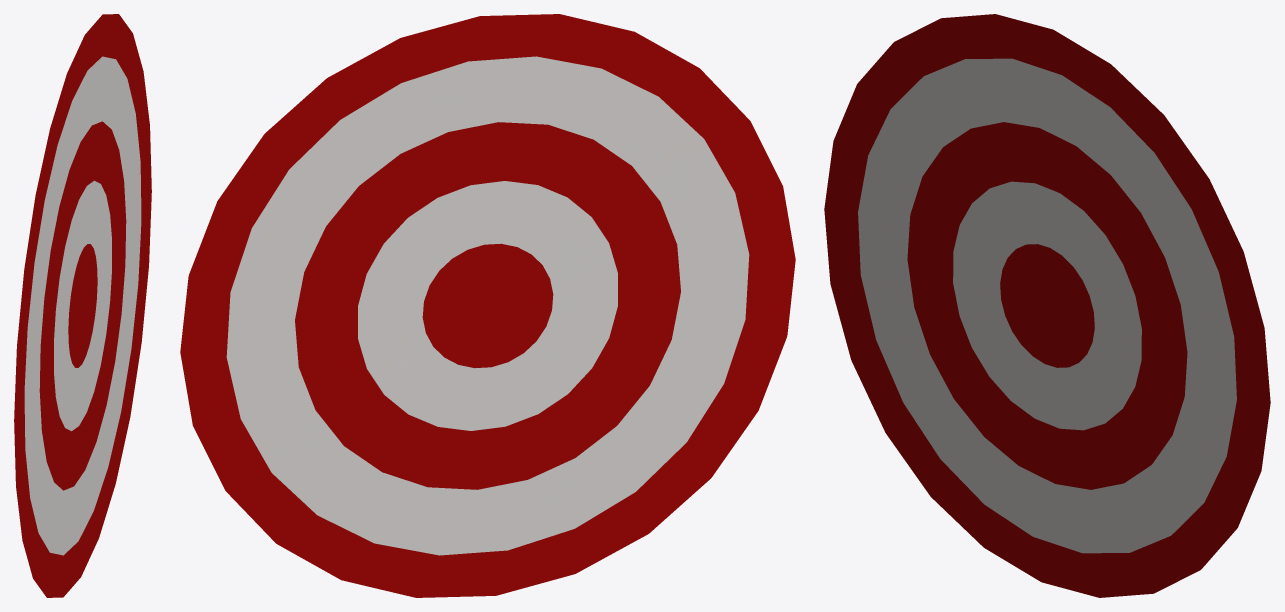
Rendered from target.fbx.
3 views of the same model, side by side, from view 1: azimuth 30°, elevation 25°; view 2: azimuth 150°, elevation 25°; view 3: azimuth 270°, elevation 25° (orthographic). The views are drawn at different scales.
Parts seen in each view (by area): view 1: SketchUp.002; view 2: SketchUp.002; view 3: SketchUp.002.
Part boxes in pixels (left/top/right/bottom): SketchUp.002: left=14, top=14, right=151, bottom=597; SketchUp.002: left=180, top=14, right=795, bottom=597; SketchUp.002: left=824, top=14, right=1270, bottom=597.
Size of the model in its own units: 739 by 1074 by 780.
